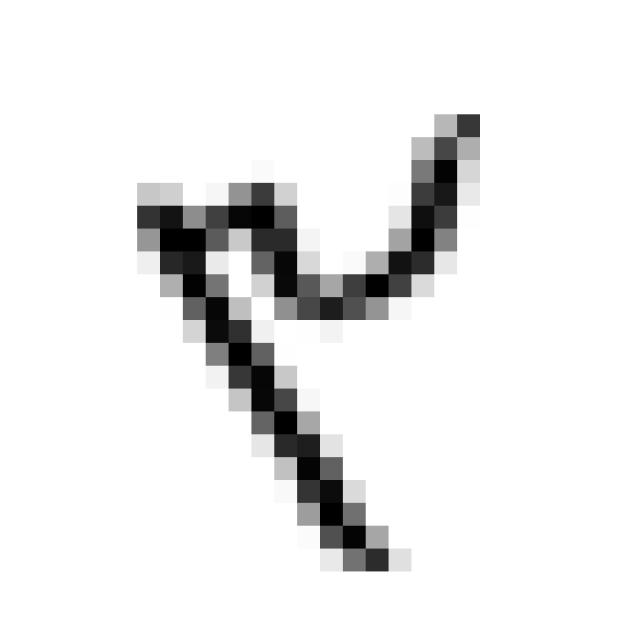3 -three-: (119, 89, 492, 597)
